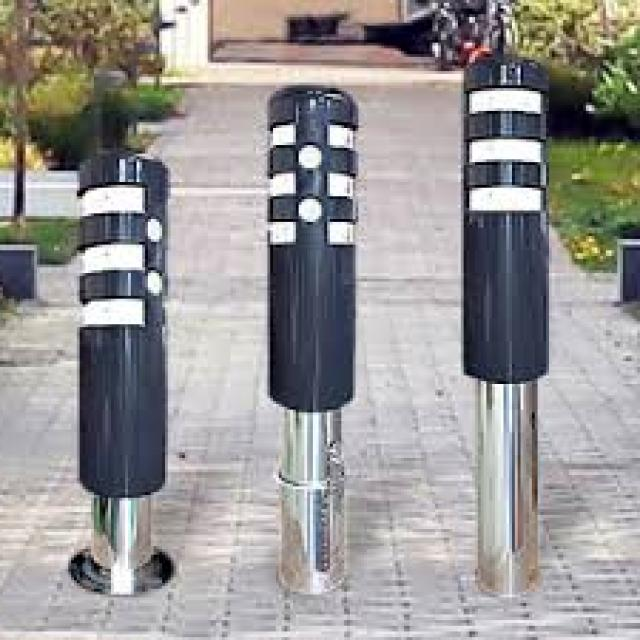bollard: (260, 64, 364, 606), (66, 138, 179, 592), (464, 44, 554, 604)
